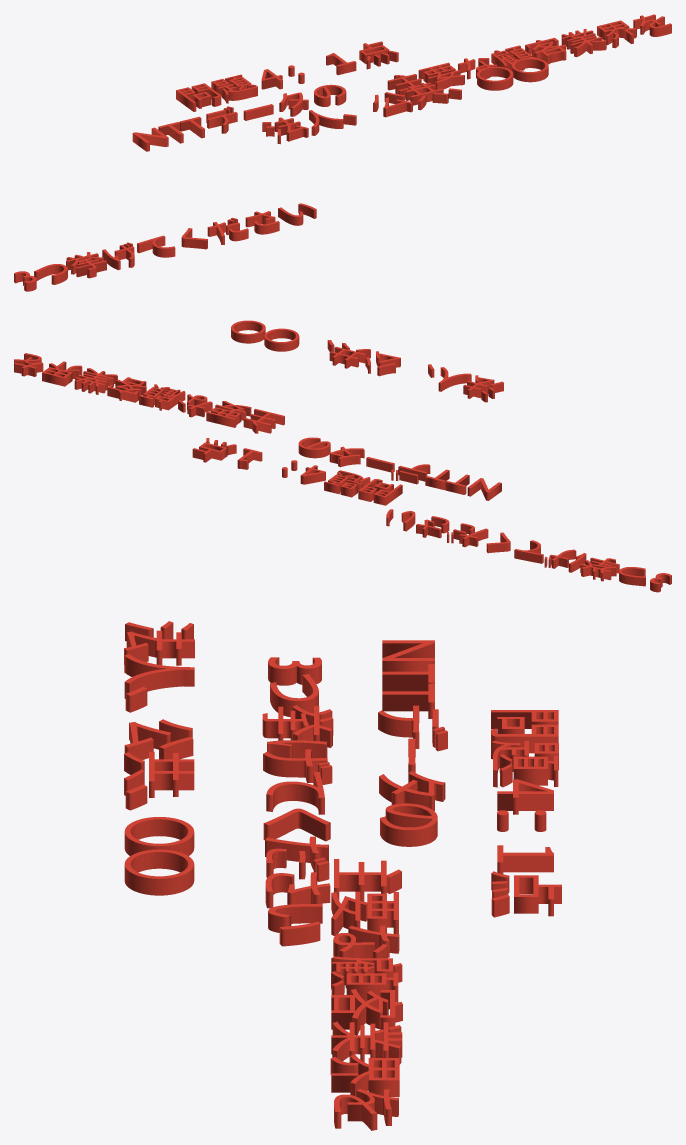
3 renders of one model, top to bottom at view 1: azimuth 30°, elevation 25°; view 2: azimuth 150°, elevation 25°; view 3: azimuth 270°, elevation 25°, orthographic. The views are drawn at different scales.
Visible parts, largest first — view 1: テキスト.005, テキスト.003, テキスト.002, テキスト.004, テキスト.001; view 2: テキスト.005, テキスト.003, テキスト.002, テキスト.004, テキスト.001; view 3: テキスト.005, テキスト.003, テキスト.002, テキスト.004, テキスト.001.
Boxes of the visible parts, x1,y1,x2,y2 form: テキスト.005: (387, 14, 671, 98); テキスト.003: (14, 203, 316, 291); テキスト.002: (262, 58, 548, 144); テキスト.004: (176, 41, 398, 111); テキスト.001: (132, 84, 346, 151); テキスト.005: (14, 353, 284, 433); テキスト.003: (386, 509, 671, 592); テキスト.002: (231, 320, 503, 402); テキスト.004: (192, 438, 402, 505); テキスト.001: (298, 437, 501, 500); テキスト.005: (330, 859, 402, 1130); テキスト.003: (262, 657, 333, 946); テキスト.002: (124, 621, 194, 895); テキスト.004: (491, 710, 561, 917); テキスト.001: (378, 640, 447, 846).
Size of the model in its own units: 18.94 by 3.58 by 5.68.
